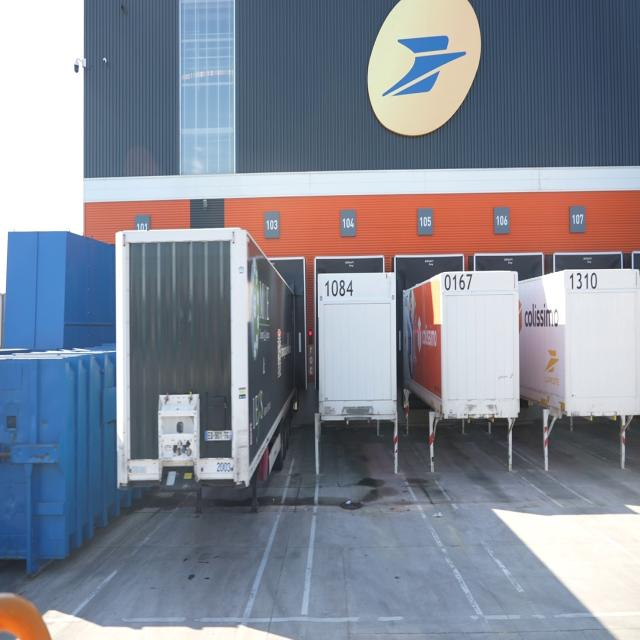Code: (323, 272, 356, 302), (566, 269, 600, 293), (442, 271, 474, 294)
